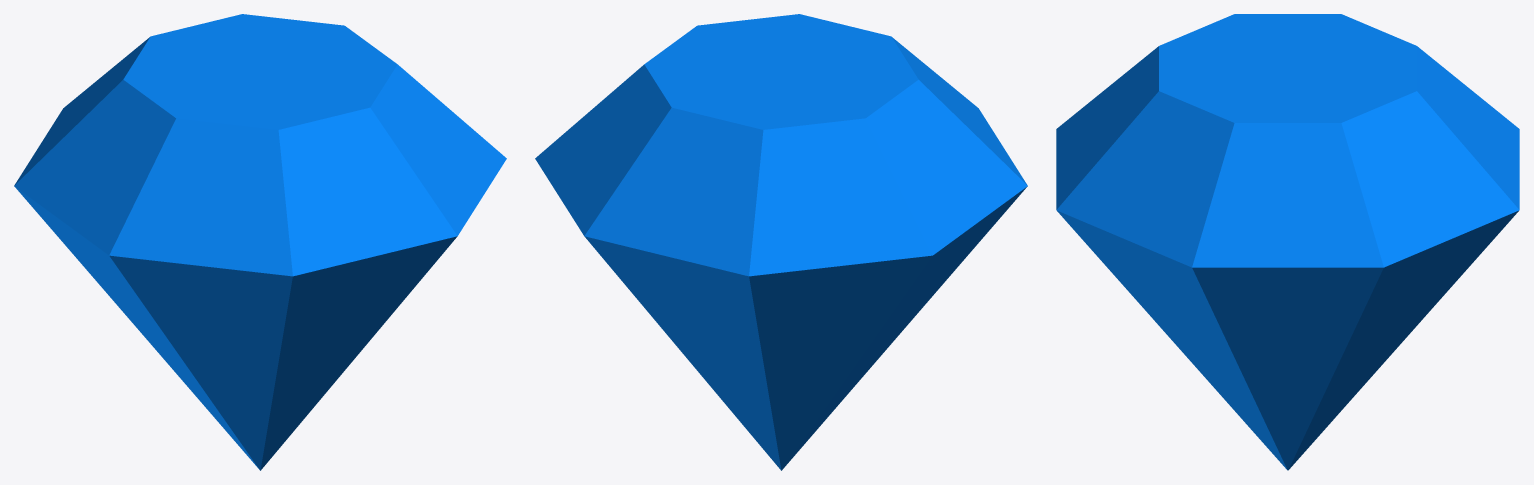
File: Gem.FBX
3 views of the same model, side by side, from view 1: azimuth 30°, elevation 25°; view 2: azimuth 150°, elevation 25°; view 3: azimuth 270°, elevation 25° (orthographic).
Visible parts, largest first — view 1: red_gem; view 2: red_gem; view 3: red_gem.
Part boxes in pixels (x1,y1,x2,y2): red_gem: [14, 14, 506, 470]; red_gem: [535, 14, 1027, 470]; red_gem: [1056, 14, 1519, 470].
Size of what is drawn, in the model's own units: 129 by 129 by 124.
